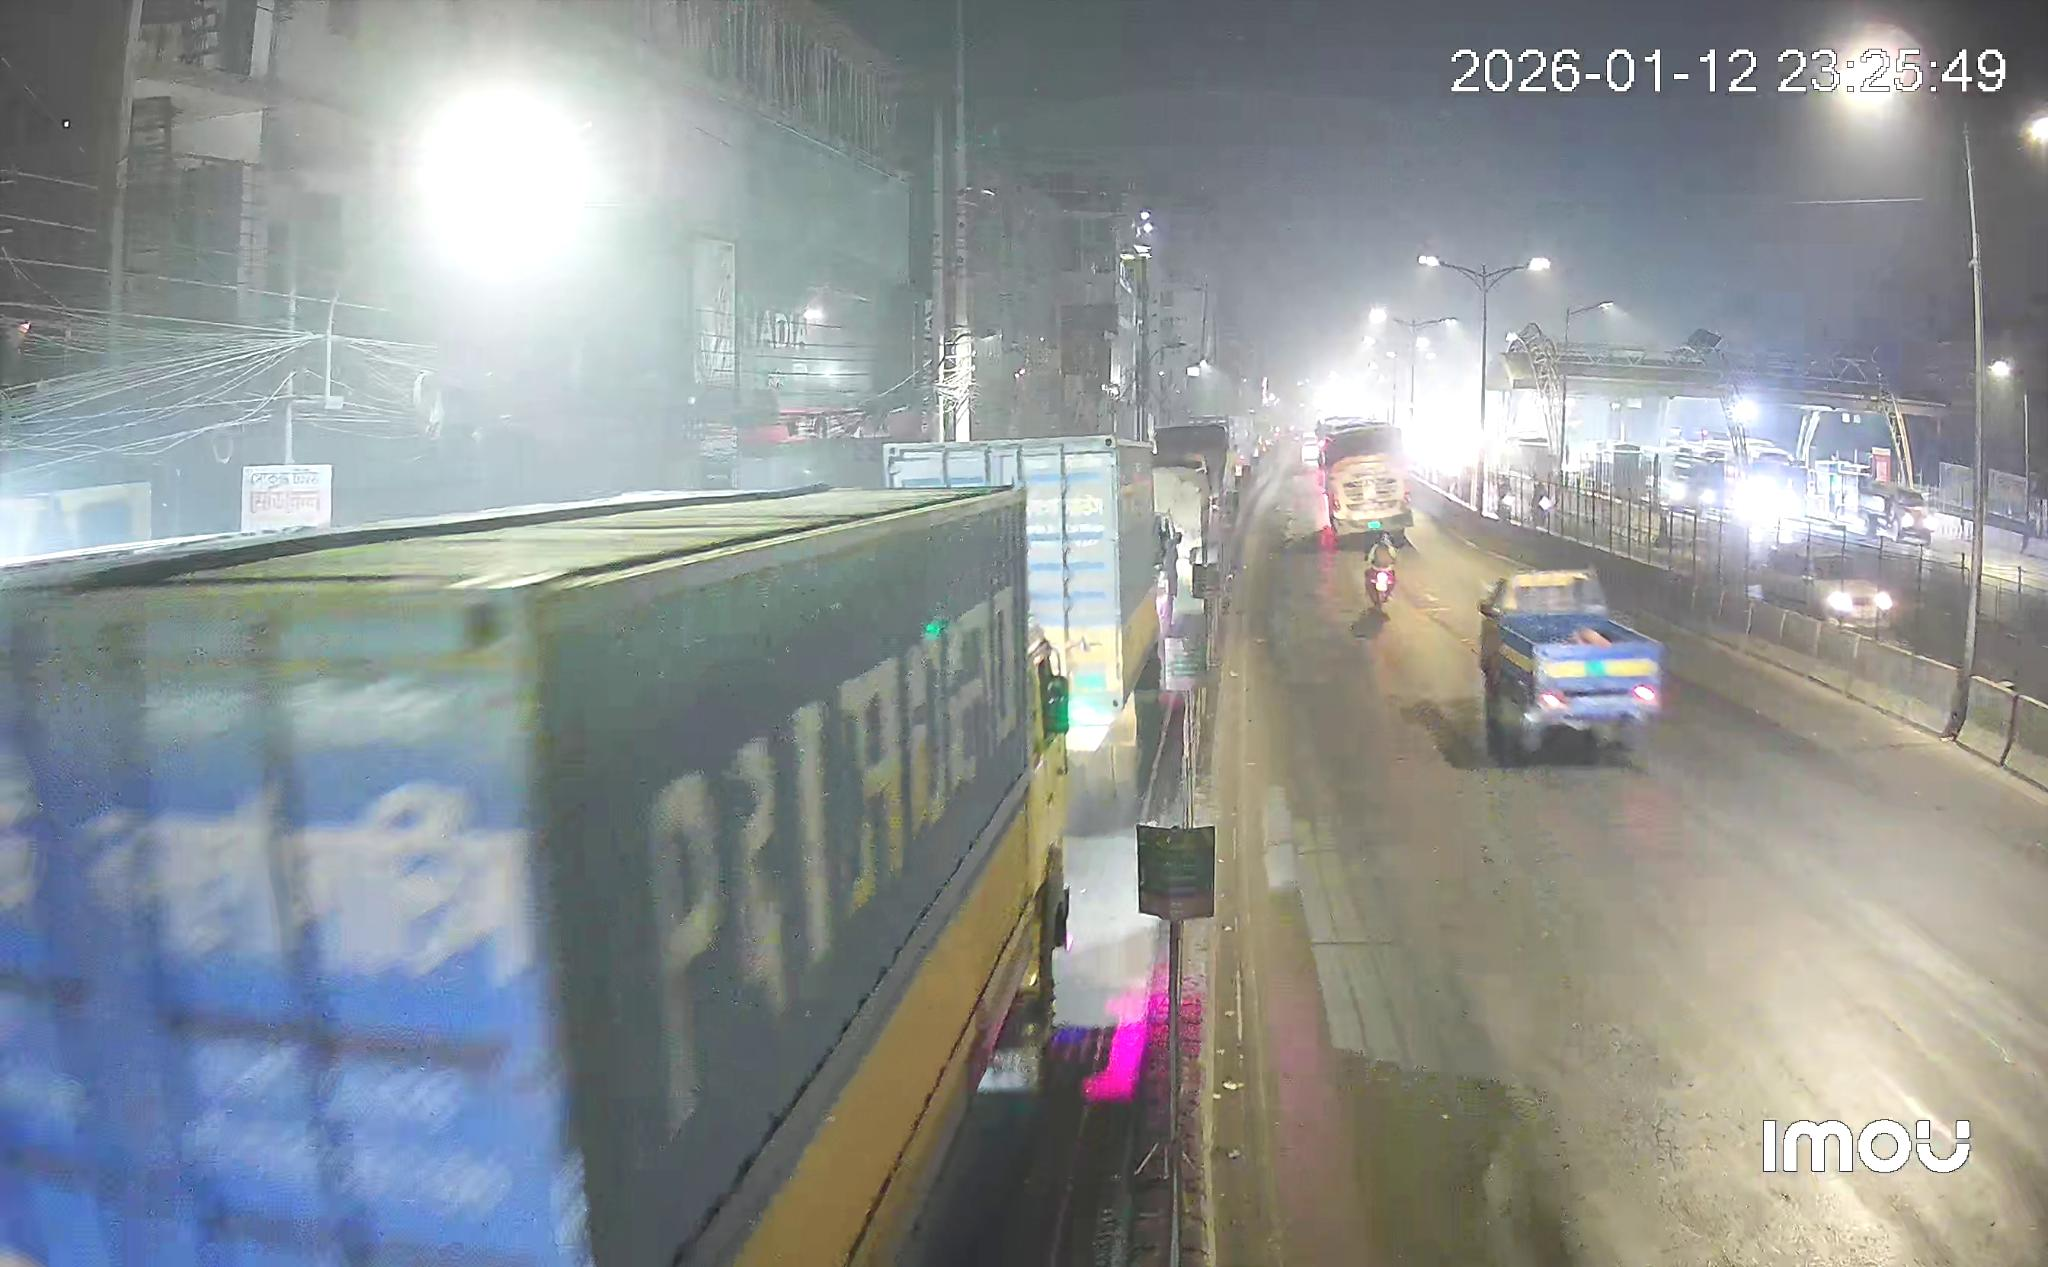Bus: (1318, 416, 1413, 549)
Motorcycle: (1366, 533, 1397, 610)
Private-Sedan Car: (1760, 544, 1893, 629)
Truck: (0, 490, 1066, 1267), (884, 436, 1164, 787), (1477, 569, 1662, 761)
